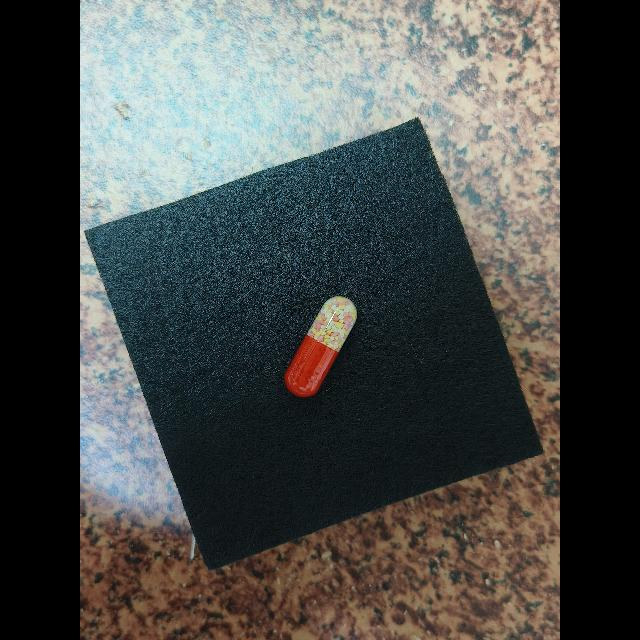Intact Capsule: (284, 296, 357, 397)
